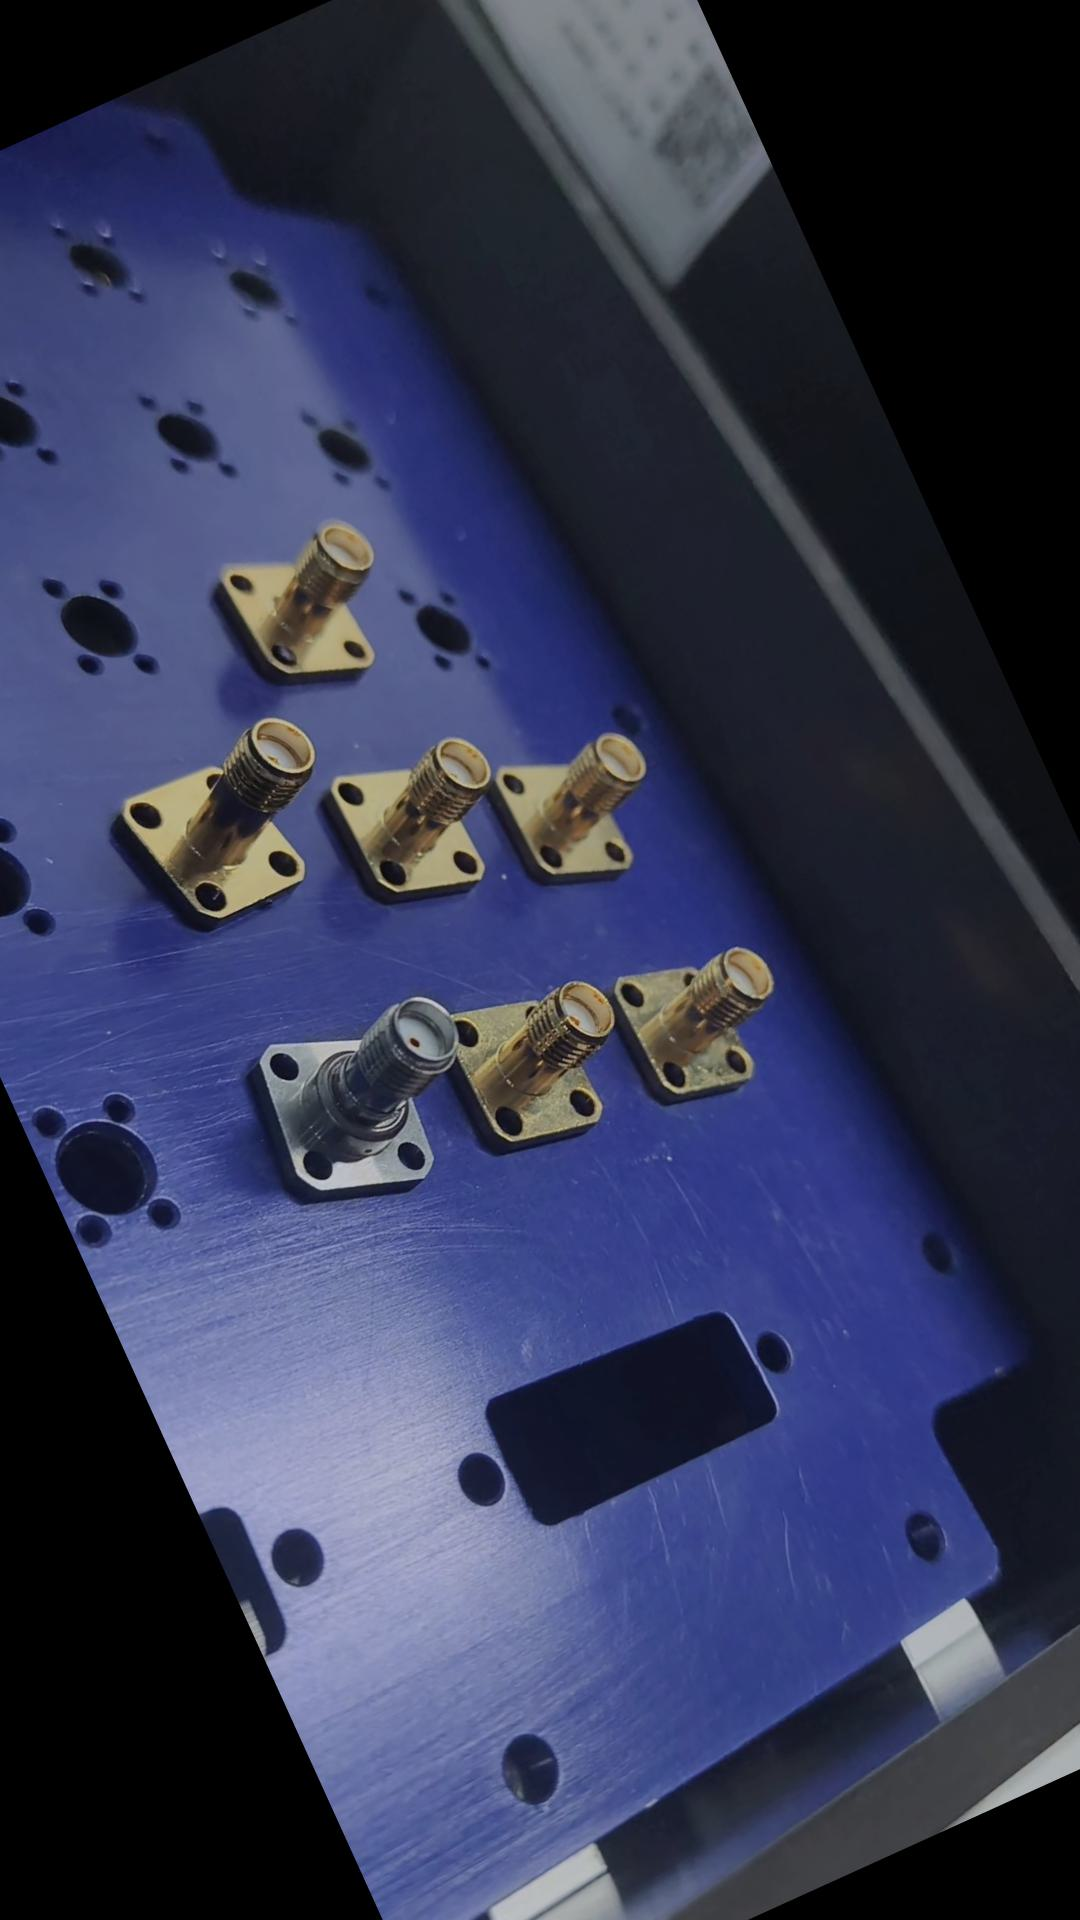SMA: (227, 971, 506, 1236), (99, 700, 363, 945), (435, 953, 653, 1170), (595, 914, 812, 1127), (318, 717, 535, 924), (204, 505, 415, 708), (481, 711, 683, 909)
